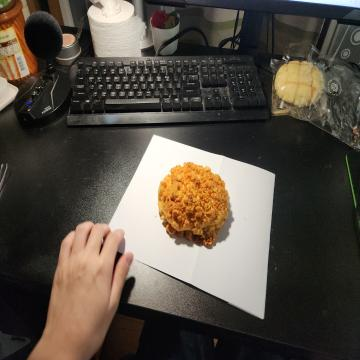soboru_bread: (154, 160, 231, 249)
